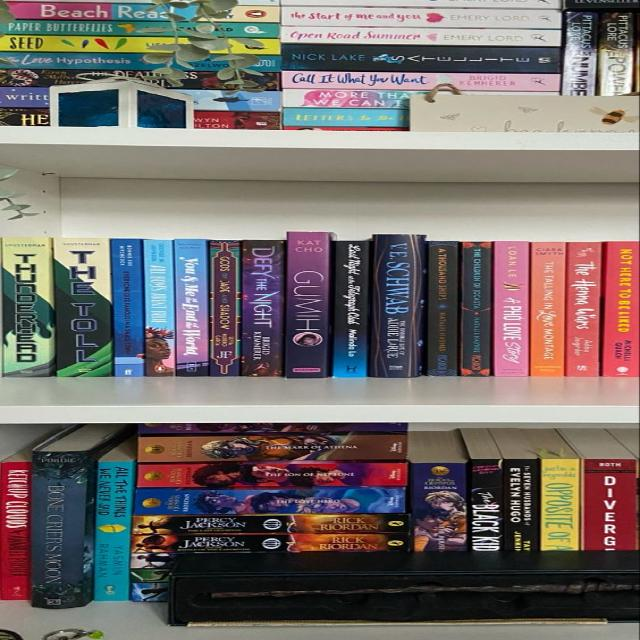book: (32, 450, 87, 608), (281, 45, 560, 73), (56, 237, 111, 376), (373, 234, 421, 377), (1, 238, 50, 376), (138, 436, 406, 461), (136, 490, 400, 514), (280, 25, 561, 47), (282, 7, 562, 29), (283, 70, 561, 92), (286, 232, 328, 377), (10, 1, 282, 23), (240, 240, 284, 376), (138, 464, 407, 486), (2, 34, 281, 55), (93, 463, 134, 602), (0, 51, 283, 71), (133, 514, 410, 534), (131, 535, 410, 554), (412, 464, 467, 552), (604, 242, 640, 376), (4, 21, 283, 38), (584, 459, 635, 551), (175, 240, 209, 376), (495, 241, 529, 376), (531, 242, 565, 376), (334, 240, 367, 377), (567, 241, 600, 377), (113, 238, 144, 376), (428, 240, 459, 376), (209, 240, 240, 376), (144, 240, 175, 376), (461, 241, 491, 377), (3, 463, 31, 600), (542, 459, 580, 551), (504, 458, 538, 552), (470, 458, 504, 551), (600, 11, 632, 95), (283, 89, 409, 108), (566, 11, 594, 96), (281, 109, 409, 127)
